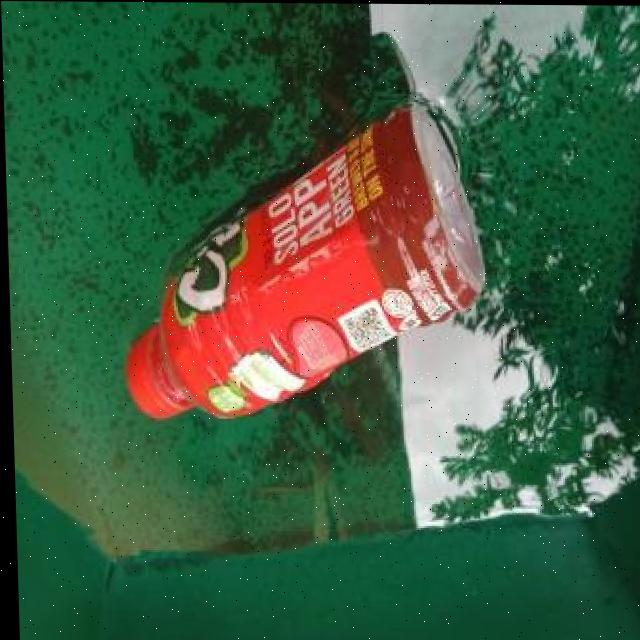bottle: (114, 97, 490, 429)
